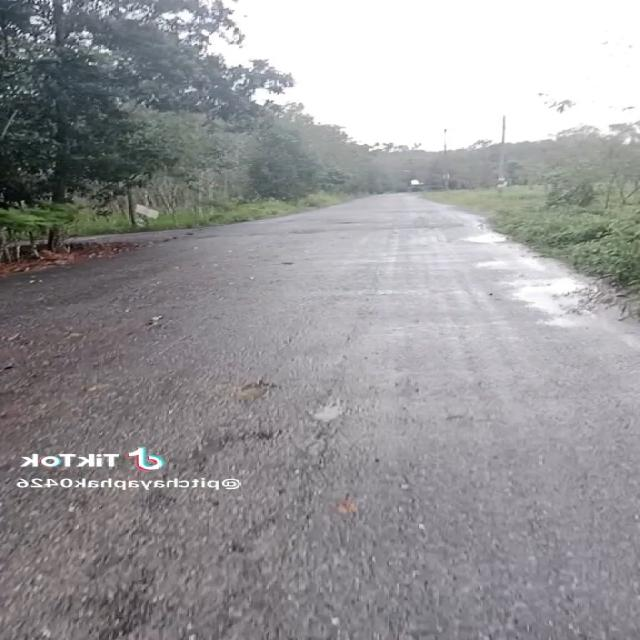Poth-hole: (297, 214, 375, 238)
